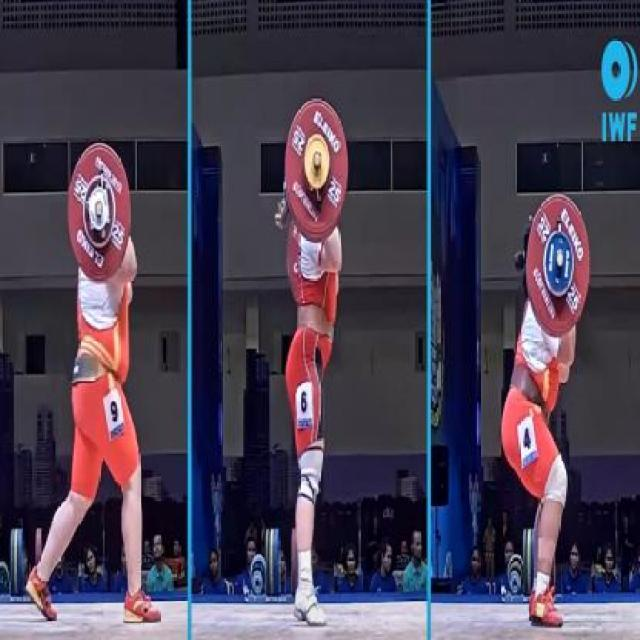Barbell: (310, 142, 326, 176), (93, 196, 104, 219), (557, 242, 565, 270)
